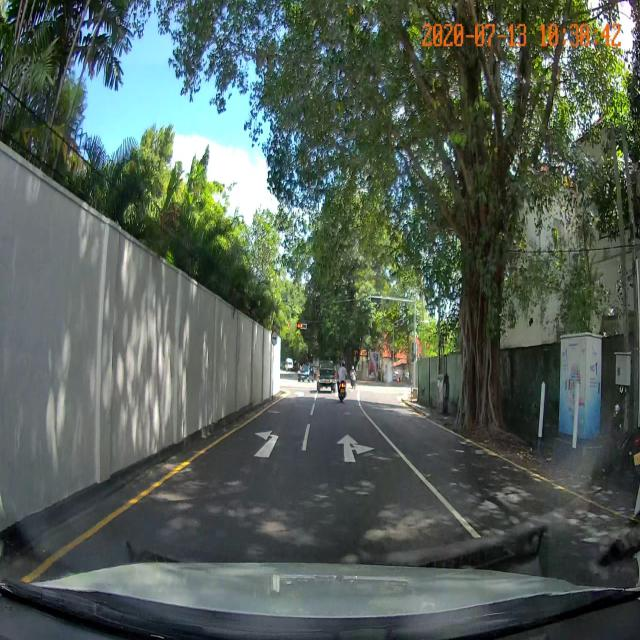Strelka vlevo: (252, 430, 280, 459)
Strelka vpered - vpravo: (335, 432, 376, 463)
